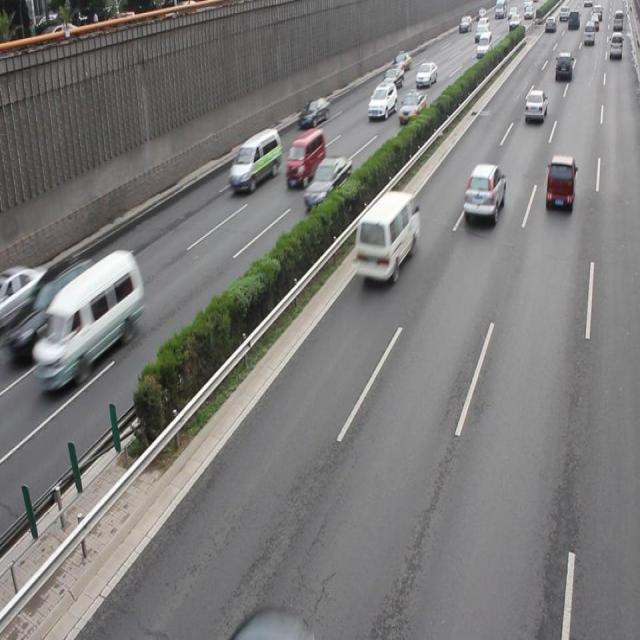car: (1, 253, 94, 359), (1, 262, 52, 327), (231, 603, 312, 640), (304, 154, 352, 211), (462, 160, 504, 224), (544, 153, 574, 212), (367, 81, 397, 122), (397, 88, 426, 124), (298, 96, 329, 127), (523, 88, 546, 122)
truck: (32, 246, 145, 392), (354, 190, 418, 281), (229, 128, 282, 192), (286, 129, 326, 189)
